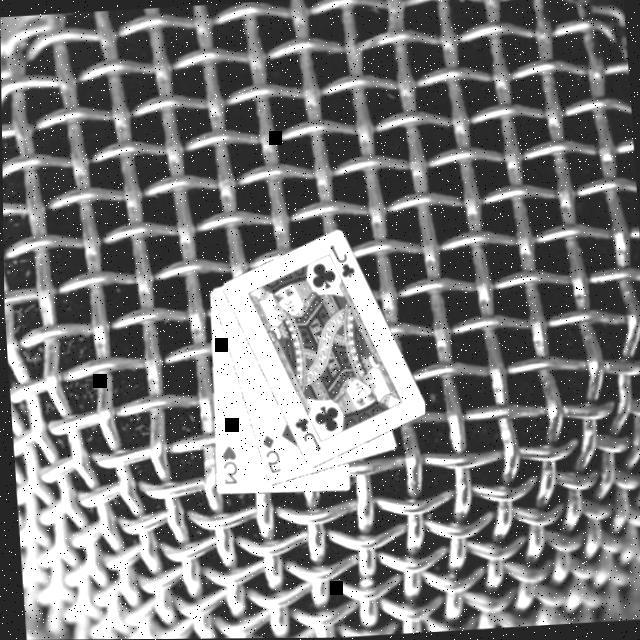3H: (215, 444, 238, 489)
5D: (256, 433, 281, 478)
JC: (288, 415, 320, 457), (323, 242, 355, 284)
